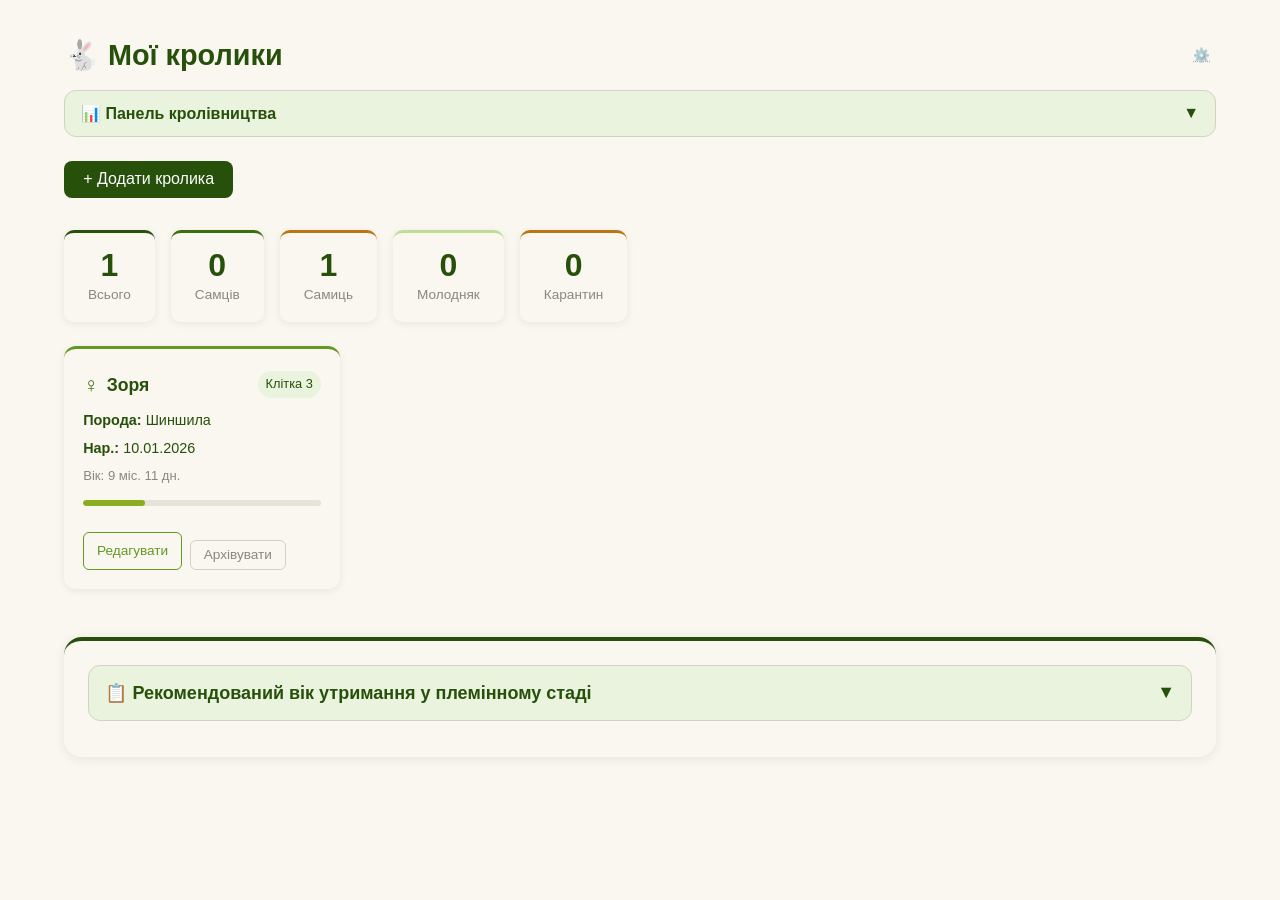
Test: RabbitRegistry: помилки Supabase › архівування: помилка лишає модалку відкритою і показує повідомлення
The image size is (1280, 900).
Click the button "Архівувати".
click(238, 555)  # box [190,540,286,570]
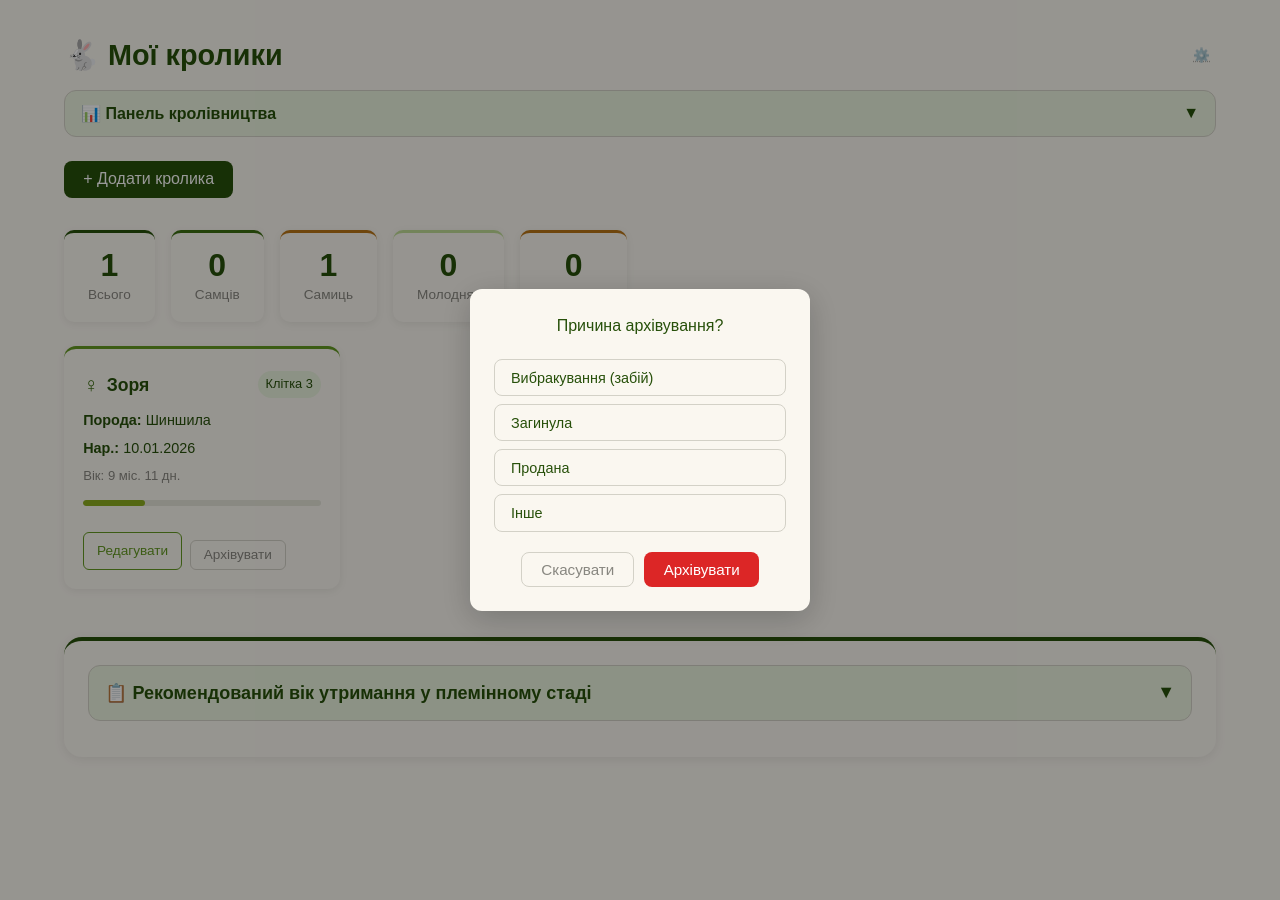
Click the button "Загинула".
click(542, 423)  # box [494,404,786,441]
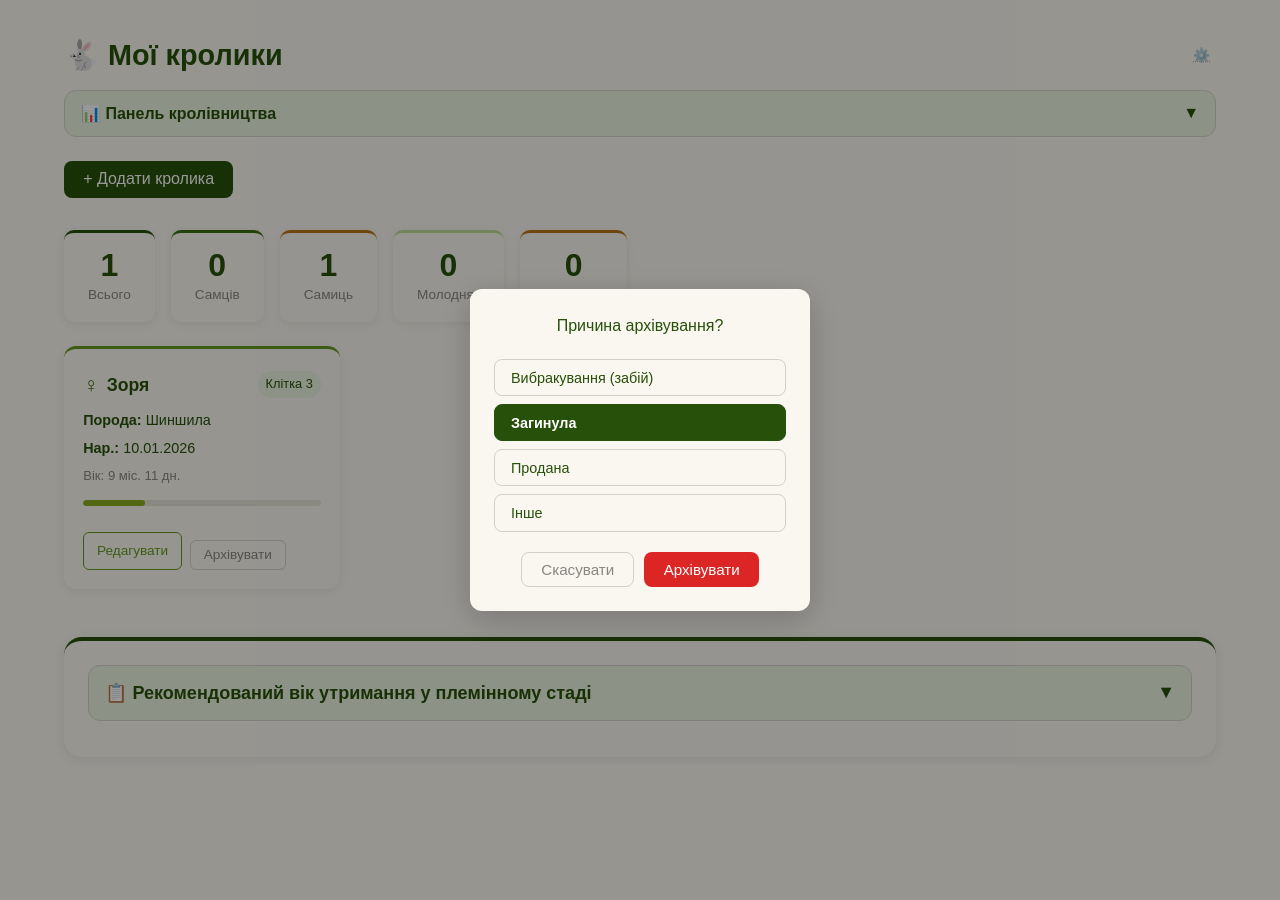
Click the button "Архівувати".
click(702, 569)  # box [644,552,759,587]
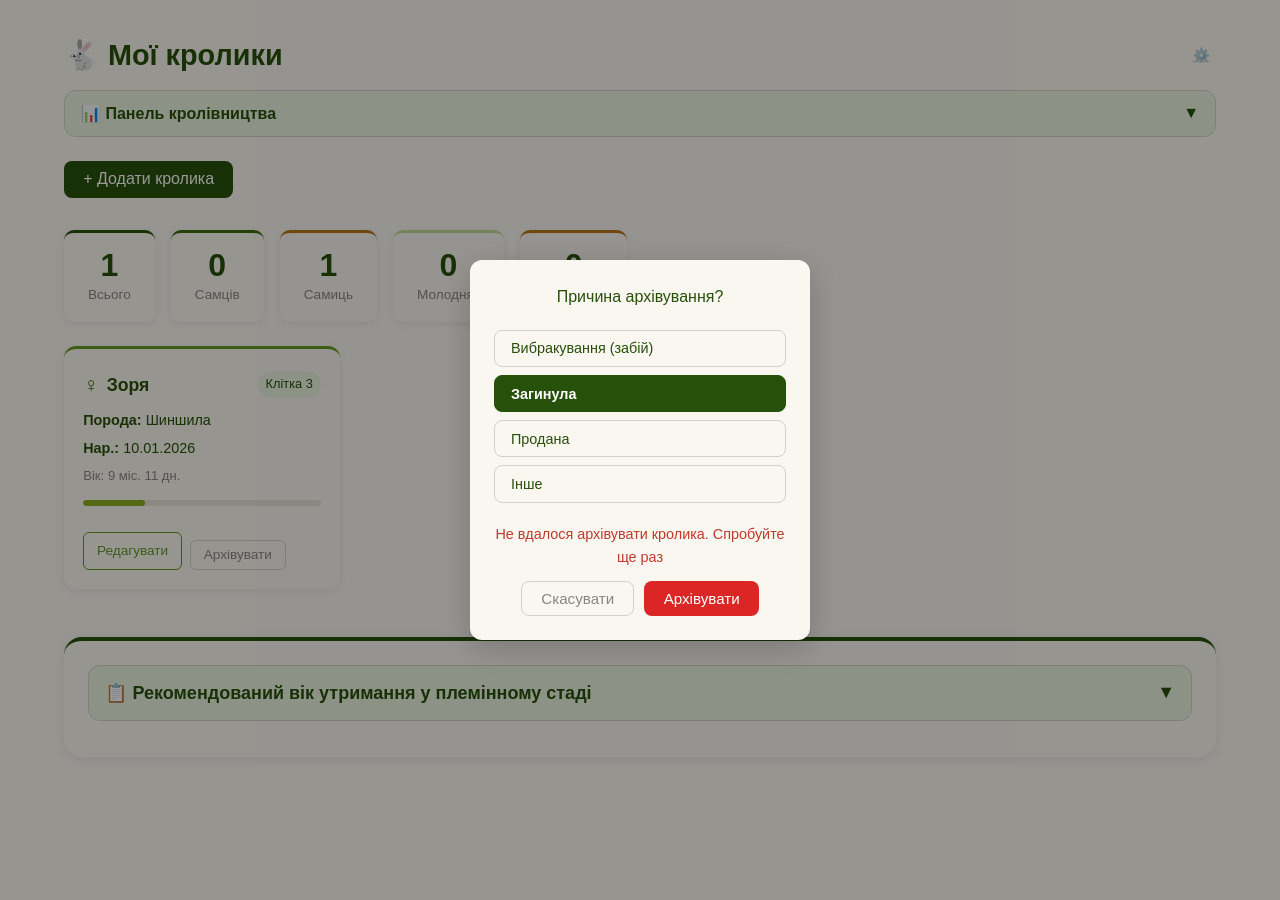
Expected: the heading "Зоря" is shown, [107,374,149,394]
Expected: the text "Причина архівування?" is shown, [557,288,723,305]
Expected: the text "Не вдалося архівувати кролика. Спробуйте ще раз" is shown, [494,523,786,569]
